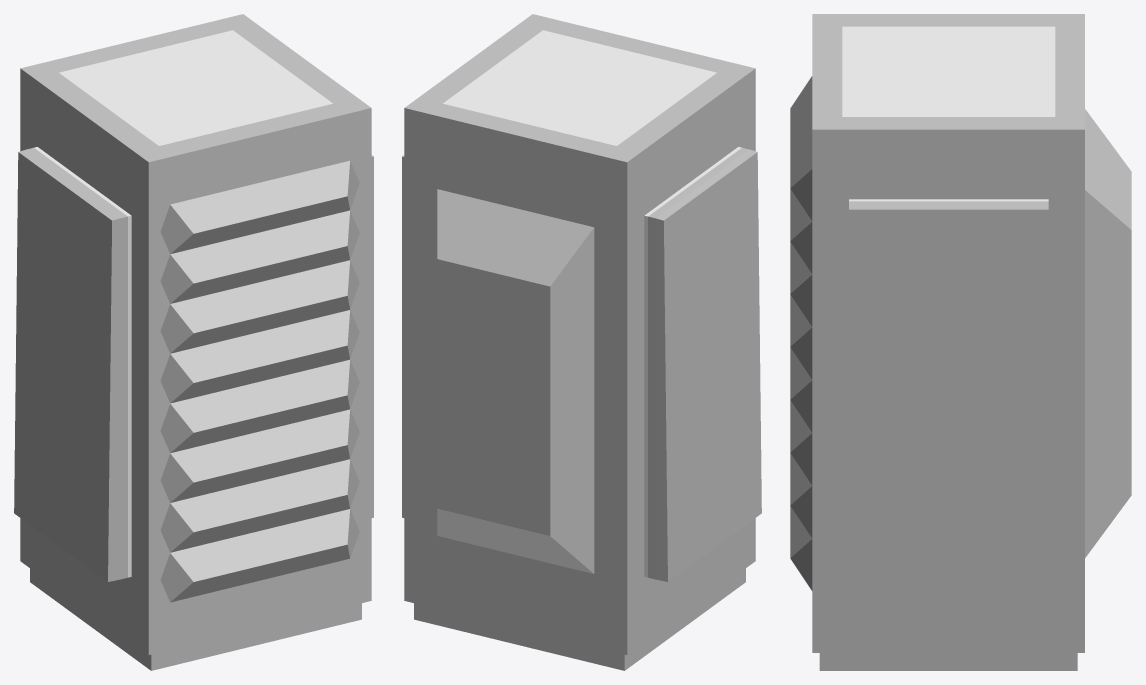
File: edge.gltf
The picture shows the model from 3 angles, left to right: view 1: azimuth 30°, elevation 25°; view 2: azimuth 150°, elevation 25°; view 3: azimuth 270°, elevation 25°; orthographic projection. The views are drawn at different scales.
Visible parts, largest first — view 1: Edge; view 2: Edge; view 3: Edge.
Boxes of the visible parts, left/top/right/bottom form: Edge: left=14, top=14, right=373, bottom=670; Edge: left=402, top=14, right=761, bottom=670; Edge: left=790, top=14, right=1131, bottom=670.
Size of the model in its own units: 0.4109 by 0.7572 by 0.4303.
Materials: 2 (1 with a texture image).
